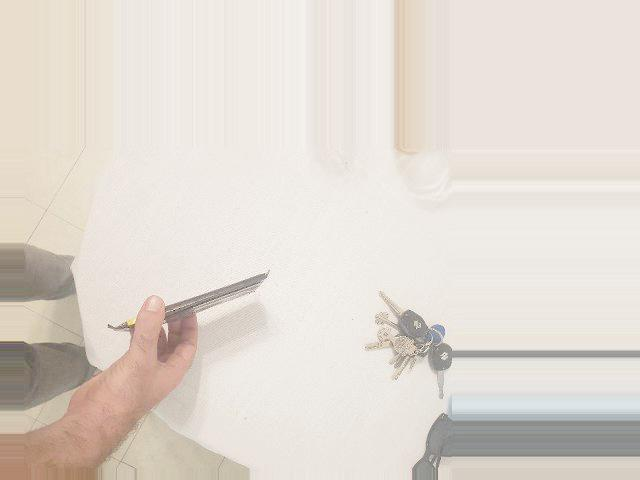chocolate: (121, 260, 277, 348)
